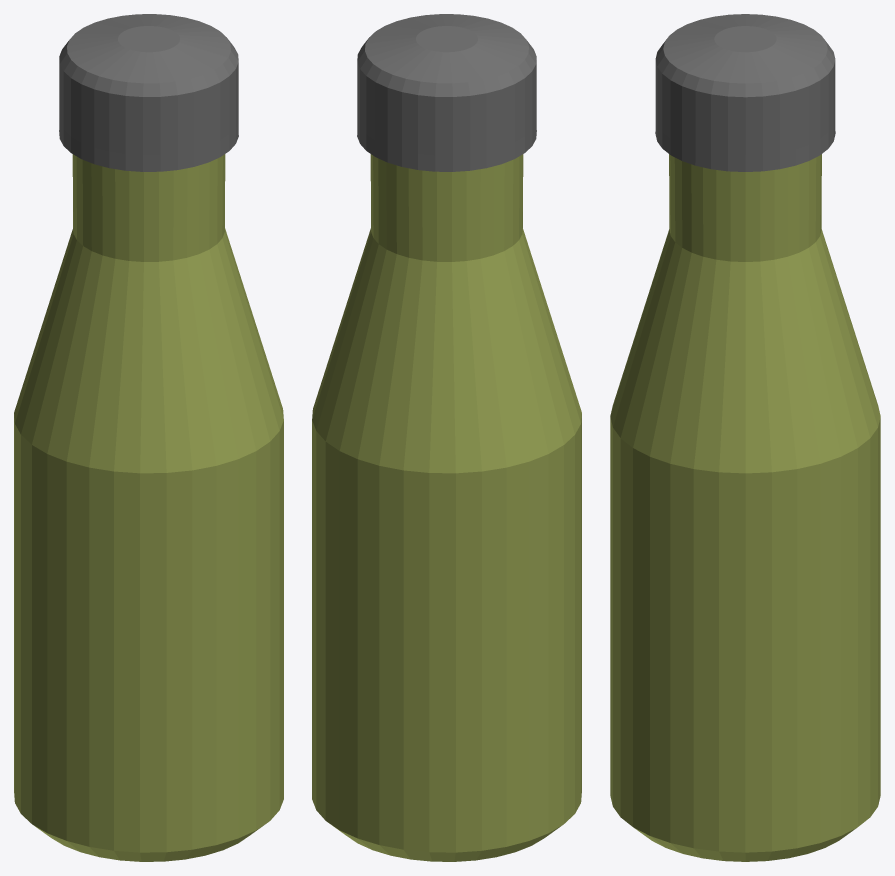
3 views of the same model, side by side, from view 1: azimuth 30°, elevation 25°; view 2: azimuth 150°, elevation 25°; view 3: azimuth 270°, elevation 25° (orthographic).
Parts seen in each view (by area): view 1: Cylinder.002; view 2: Cylinder.002; view 3: Cylinder.002.
Part boxes in pixels (x1,y1,x2,y2): Cylinder.002: (14, 14, 283, 861); Cylinder.002: (312, 14, 581, 861); Cylinder.002: (610, 14, 880, 861).
Bounding box in the file's own units: 95.28 × 308 × 95.28.
